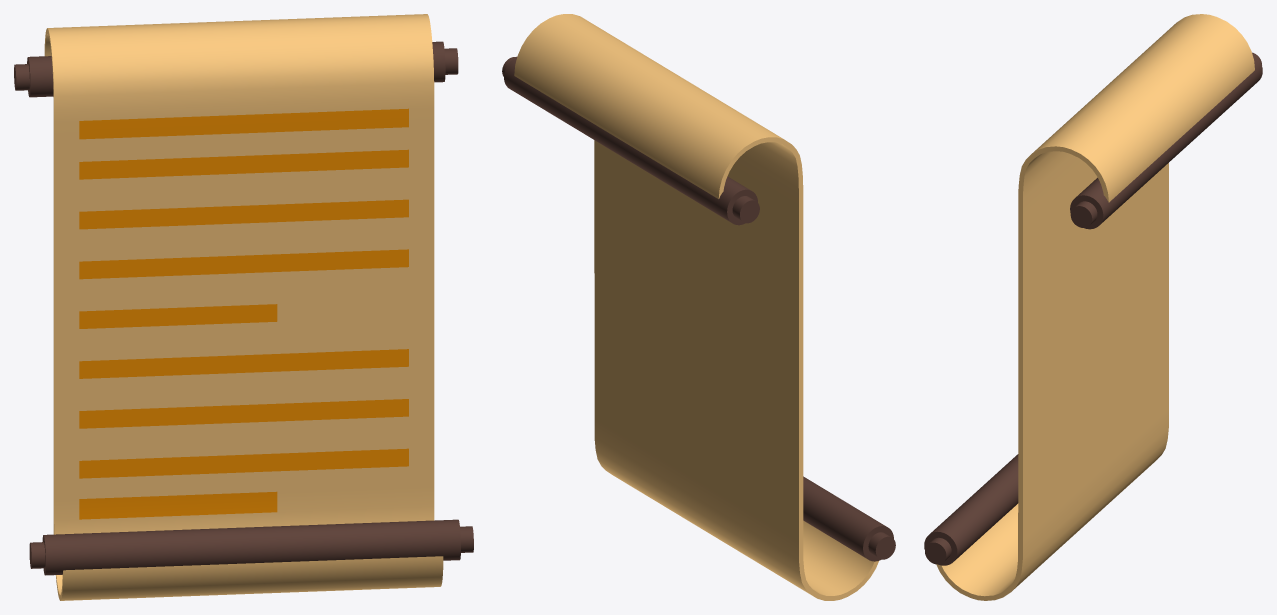
The model's file is scroll.gltf.
3 renders of one model, left to right at view 1: azimuth 30°, elevation 25°; view 2: azimuth 150°, elevation 25°; view 3: azimuth 270°, elevation 25°, orthographic. The views are drawn at different scales.
Visible parts, largest first — view 1: scroll; view 2: scroll; view 3: scroll.
Part boxes in pixels (<box>): scroll: <box>14,14,473,600</box>; scroll: <box>502,14,895,600</box>; scroll: <box>924,14,1262,600</box>.
Bounding box in the file's own units: 1.92 × 2.25 × 1.47.
Materials: 1 (1 with a texture image).
